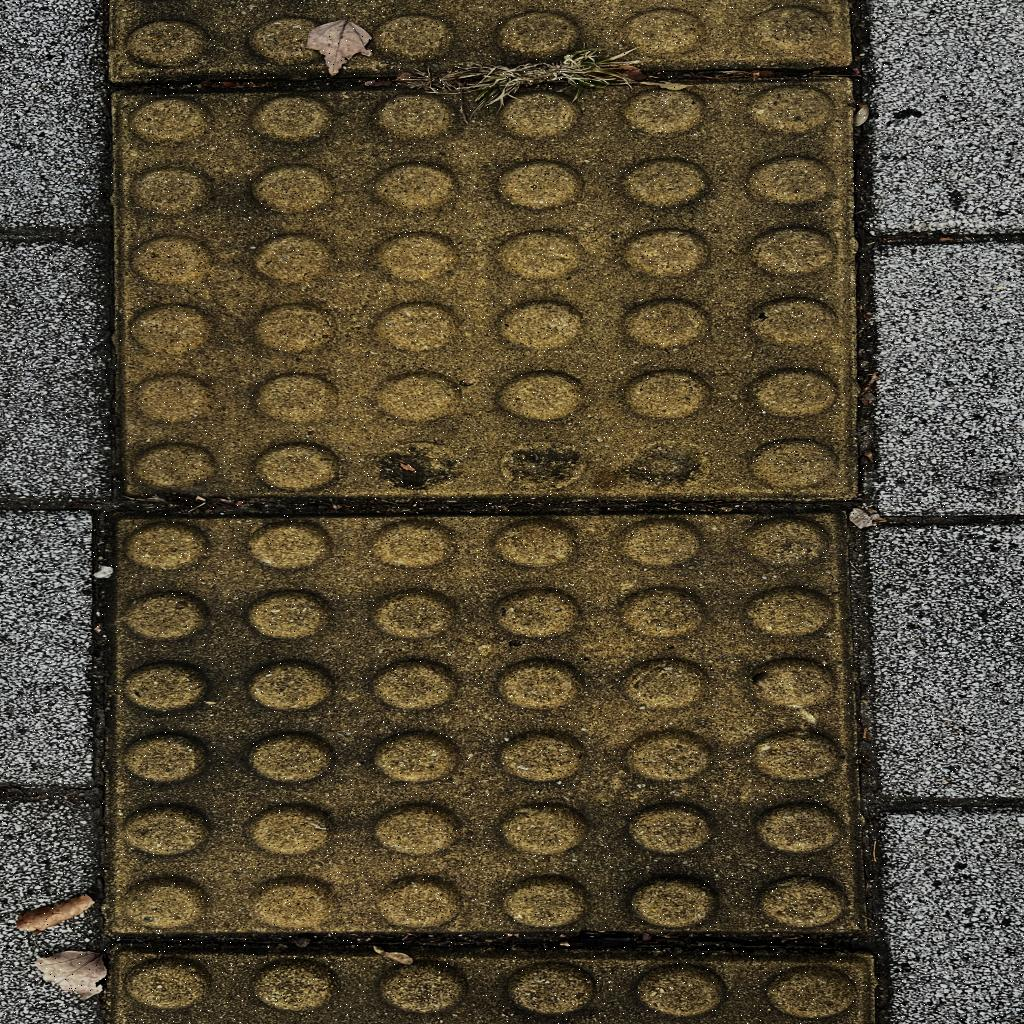Stop block normal: (125, 519, 852, 937), (123, 95, 844, 499)
